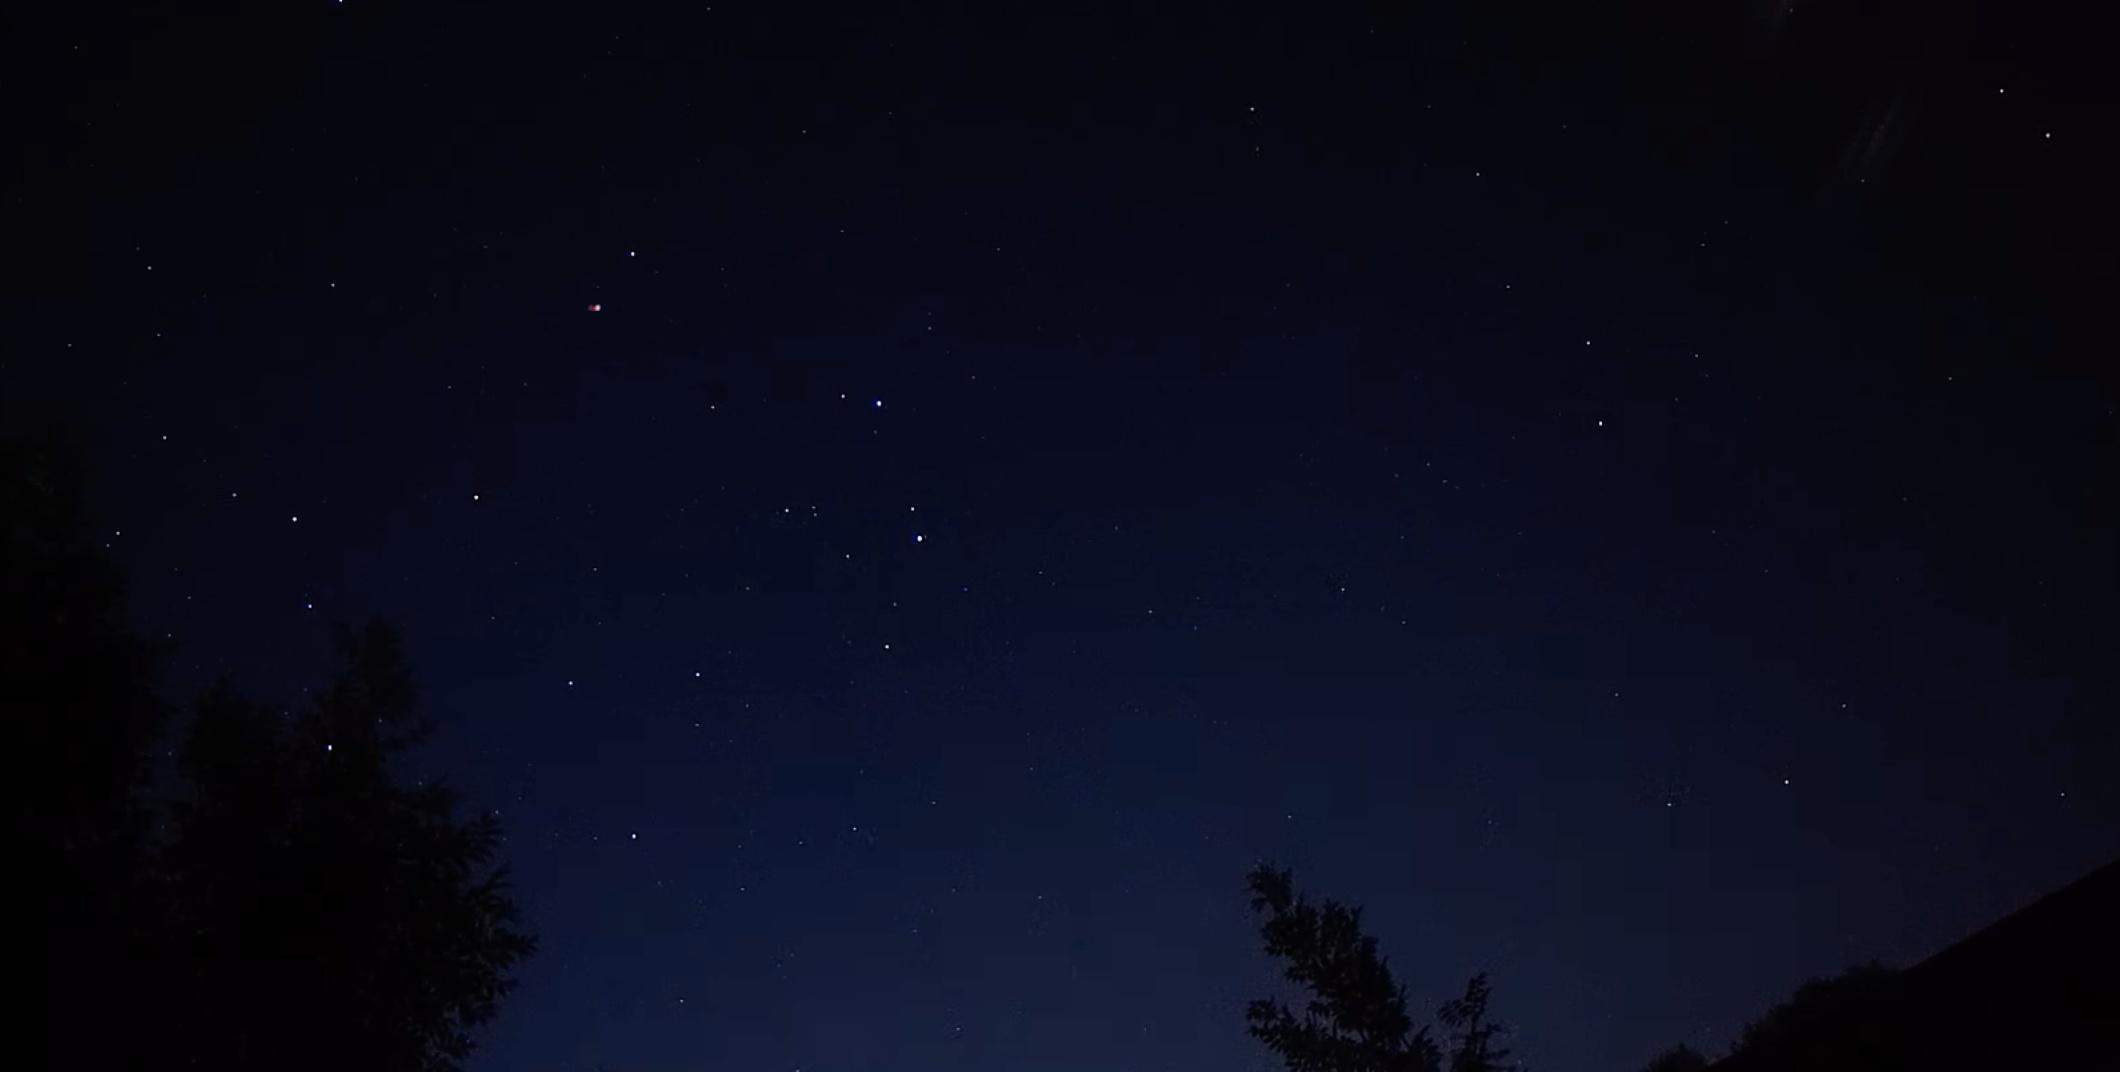Plane: (565, 290, 625, 325)
